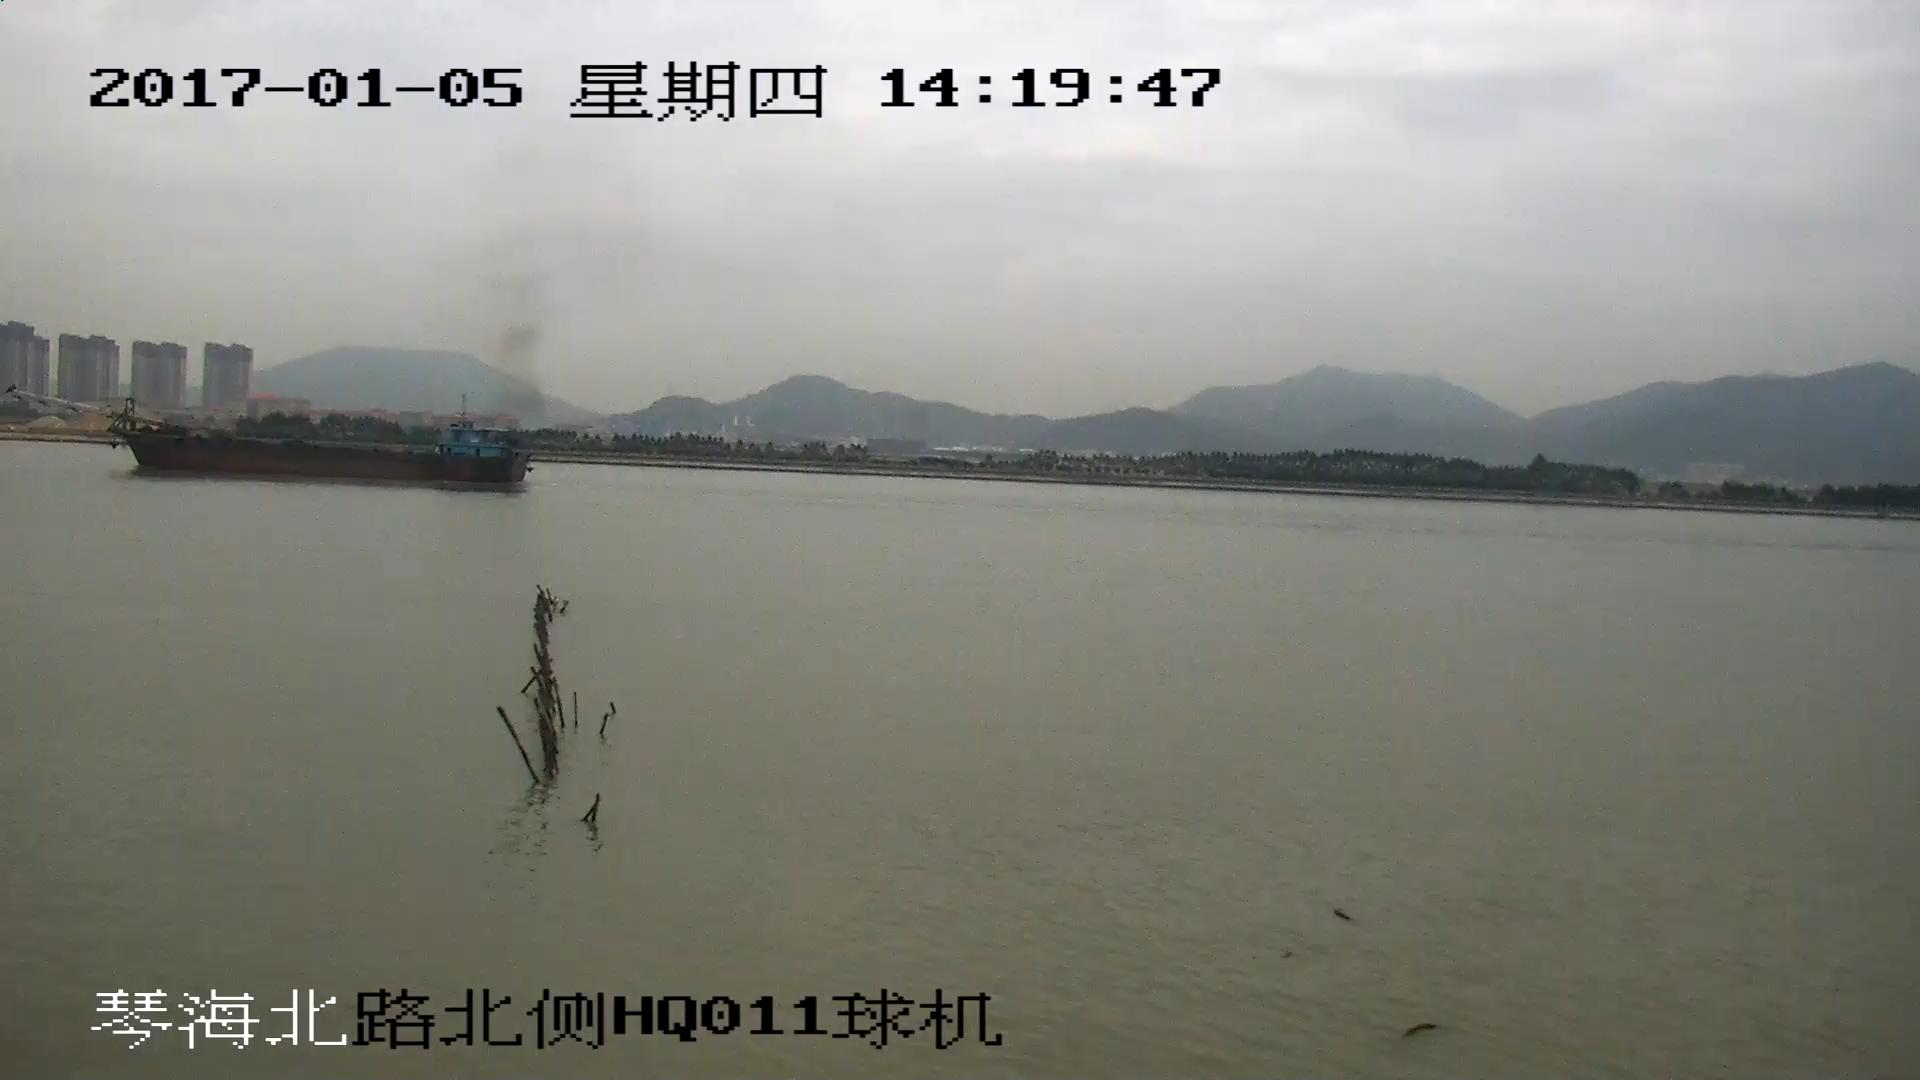bulk cargo carrier: (10, 391, 531, 482)
